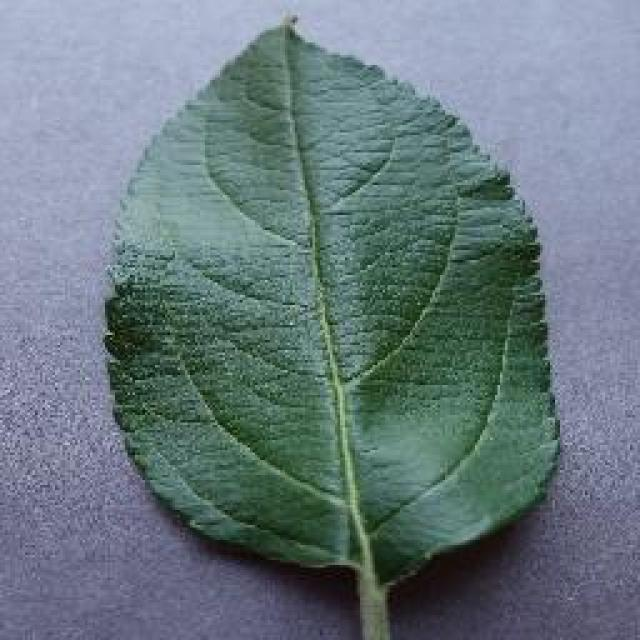apple healthy: (98, 10, 562, 638)
